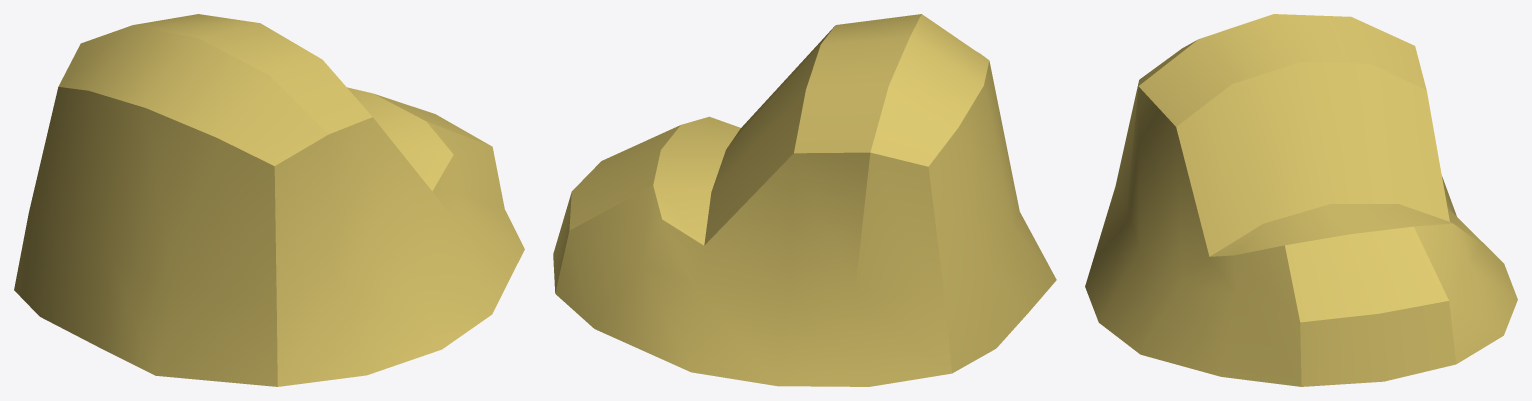
File: roca.fbx
3 renders of one model, left to right at view 1: azimuth 30°, elevation 25°; view 2: azimuth 150°, elevation 25°; view 3: azimuth 270°, elevation 25°, orthographic. The views are drawn at different scales.
Parts seen in each view (by area): view 1: roca; view 2: roca; view 3: roca.
Part boxes in pixels (left/top/right/bottom): roca: left=14, top=14, right=524, bottom=386; roca: left=553, top=14, right=1056, bottom=386; roca: left=1085, top=14, right=1517, bottom=386.
Bounding box in the file's own units: 585 × 344 × 551.
